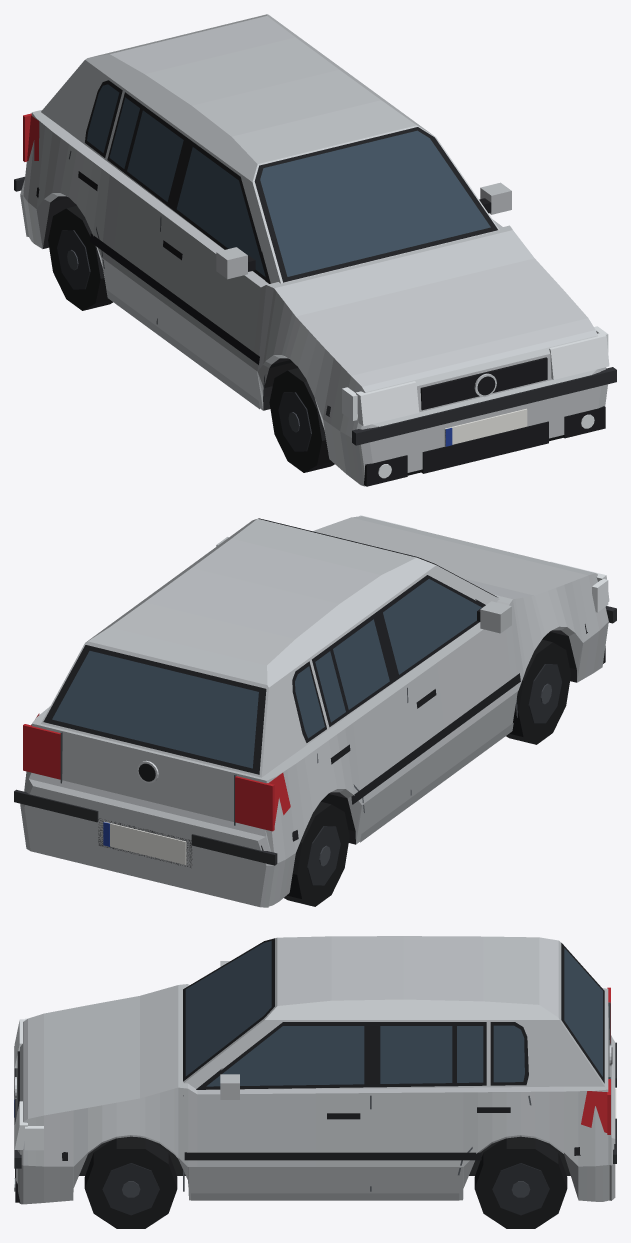
The model's file is Arac_polo_6n2_Hafif.fbx.
3 renders of one model, top to bottom at view 1: azimuth 30°, elevation 25°; view 2: azimuth 150°, elevation 25°; view 3: azimuth 270°, elevation 25°, orthographic. The views are drawn at different scales.
Visible parts, largest first — view 1: Arac_polo_6n2_Hafif; view 2: Arac_polo_6n2_Hafif; view 3: Arac_polo_6n2_Hafif.
Boxes of the visible parts, x1,y1,x2,y2 form: Arac_polo_6n2_Hafif: (14, 14, 616, 486); Arac_polo_6n2_Hafif: (14, 515, 616, 907); Arac_polo_6n2_Hafif: (14, 936, 616, 1228).
Size of the model in its own units: 1.81 by 1.43 by 3.77.
